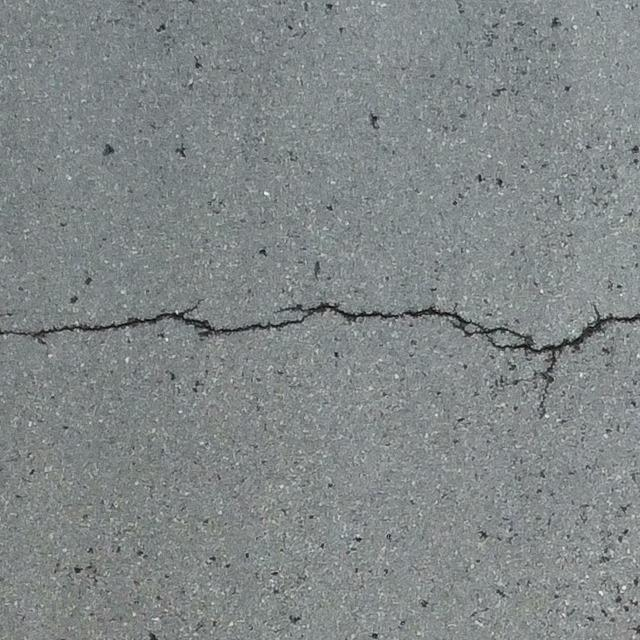TransverseCrack: (1, 301, 640, 420)
